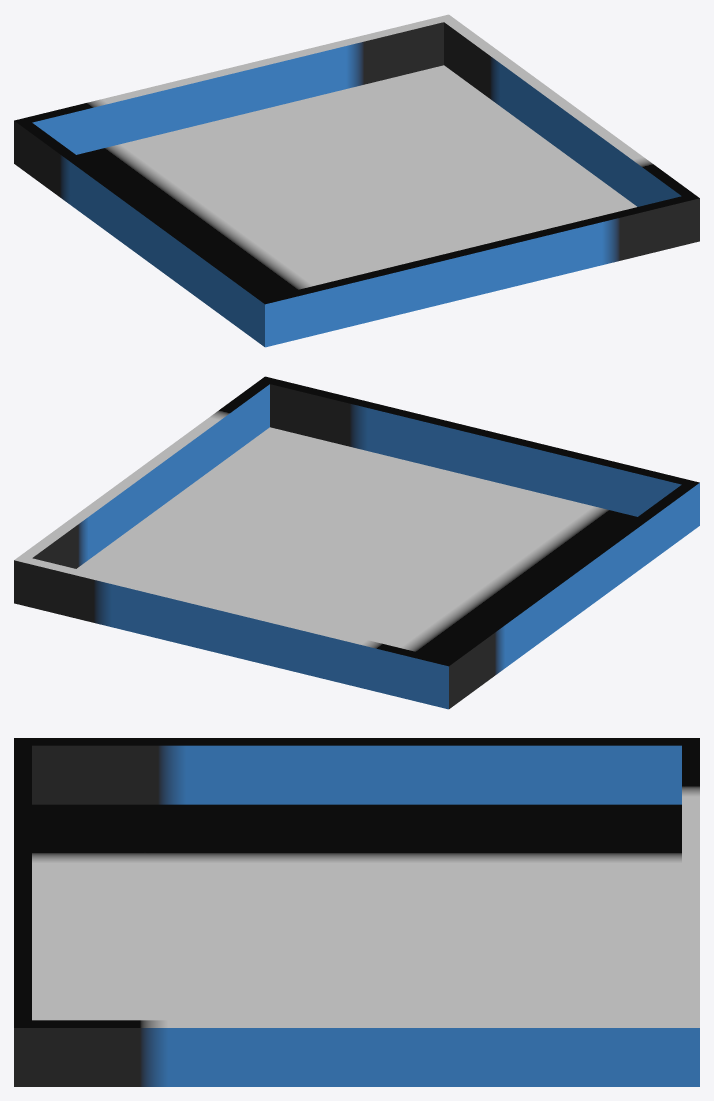
File: testing_floor.fbx
3 renders of one model, top to bottom at view 1: azimuth 30°, elevation 25°; view 2: azimuth 150°, elevation 25°; view 3: azimuth 270°, elevation 25°, orthographic. The views are drawn at different scales.
Parts seen in each view (by area): view 1: floor; view 2: floor; view 3: floor.
Part boxes in pixels (bbox=[...]): floor: bbox=[14, 14, 699, 347]; floor: bbox=[14, 376, 699, 709]; floor: bbox=[14, 738, 699, 1086].
Size of the model in its own units: 1056 by 100 by 1056.
